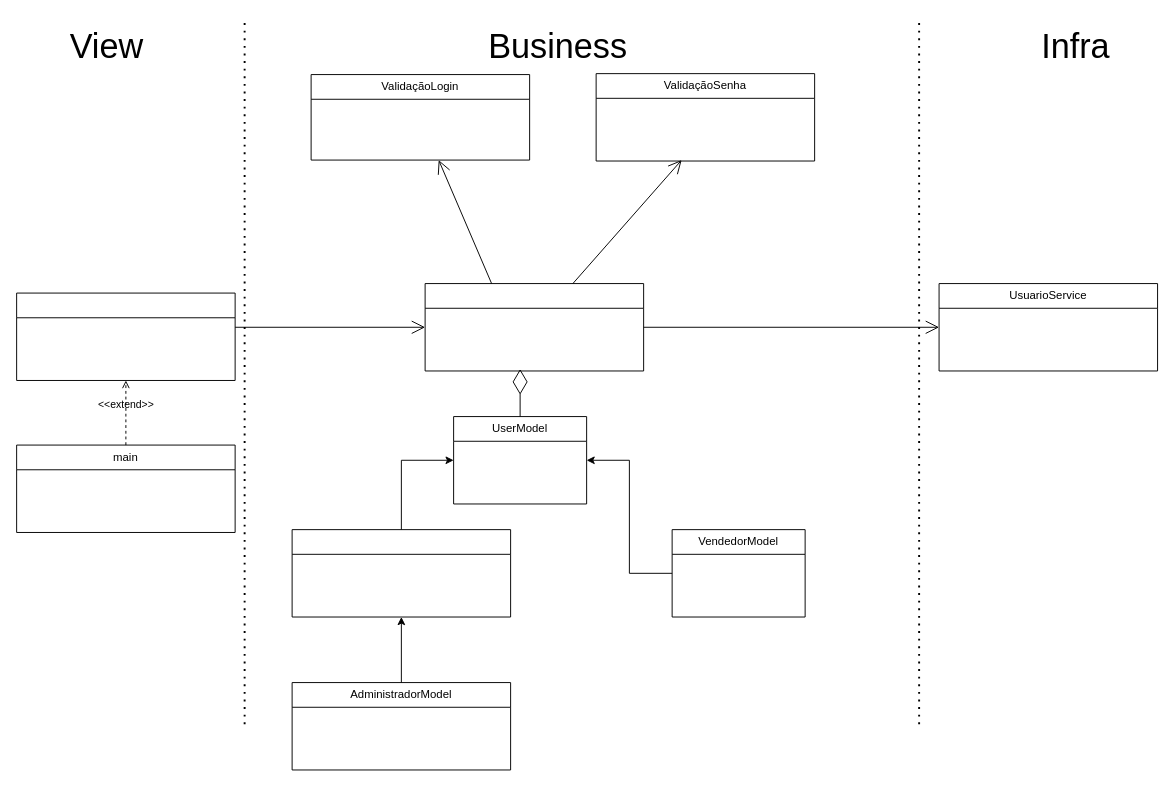
Some shapes in this 1174 by 787 pixel diagram are drawn without their labels. Each missing label, with the centre of its shape:
GerenciamentoAdministradores: the point at 125,336
GerenteModel: the point at 401,573
UsuarioController: the point at 534,327
